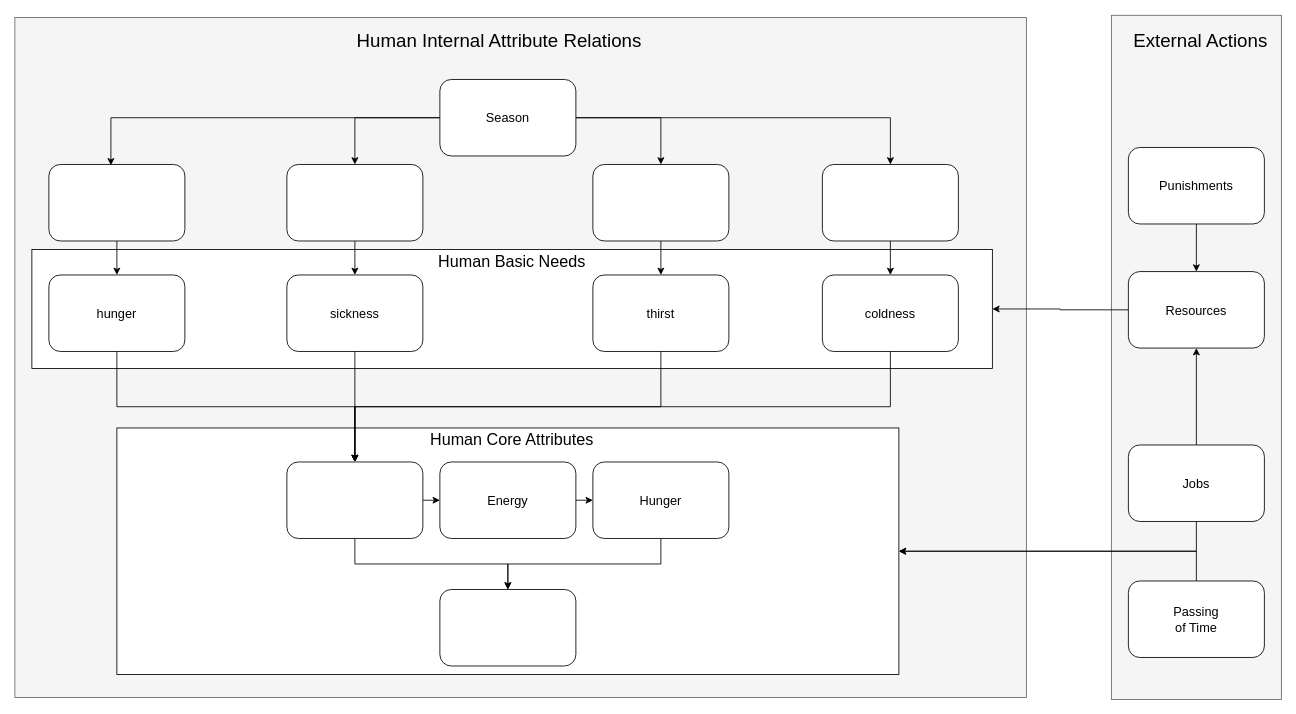
Image size: 1296x714. Some labels were removed from this diagram. The shapes that lost their labels are listed below. From the top down, each one's centre as x and y in pixels, then its label:
At (x=116, y=202): "hungerFactor".
At (x=354, y=202): "sicknessFactor".
At (x=660, y=202): "thirstFactor".
At (x=890, y=202): "coldnessFactor".
At (x=354, y=499): "Health".
At (x=507, y=627): "Moral Level".
